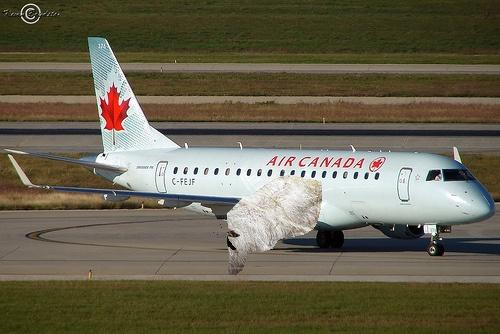tampered: (214, 176, 322, 275)
